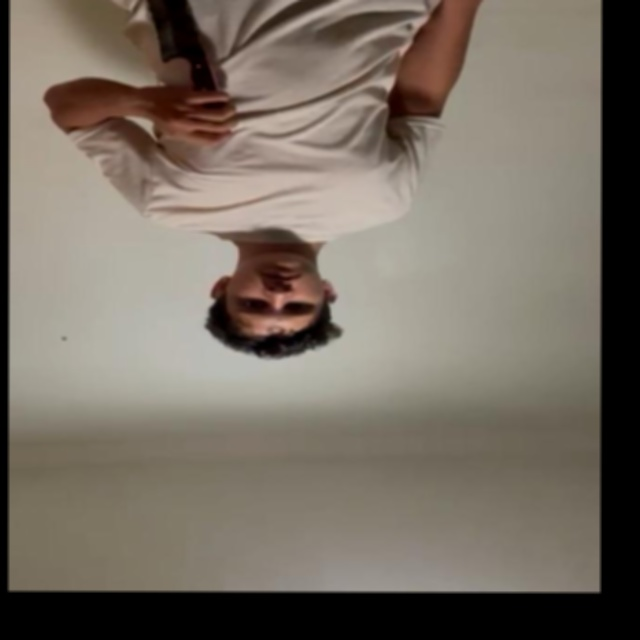Sharp-Object: (142, 0, 196, 64)
